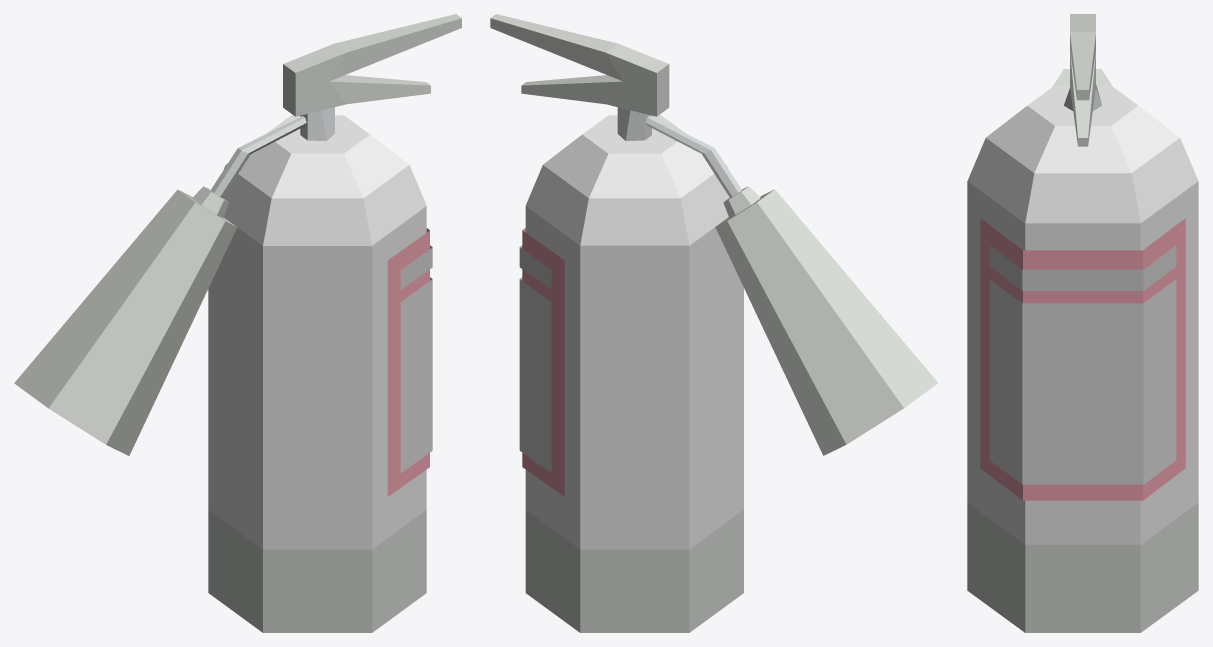
The model's file is FireExtinguisher.fbx.
3 renders of one model, left to right at view 1: azimuth 30°, elevation 25°; view 2: azimuth 150°, elevation 25°; view 3: azimuth 270°, elevation 25°, orthographic. The views are drawn at different scales.
Parts seen in each view (by area): view 1: FireExtinguisher; view 2: FireExtinguisher; view 3: FireExtinguisher.
Boxes of the visible parts, x1,y1,x2,y2 form: FireExtinguisher: (14, 14, 461, 632); FireExtinguisher: (490, 14, 938, 632); FireExtinguisher: (967, 14, 1198, 632).
Bounding box in the file's own units: 107 × 130 × 47.49.
